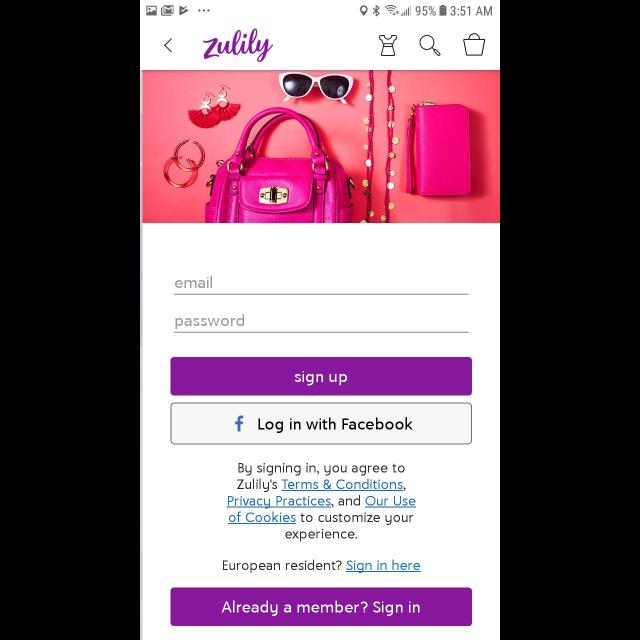icon: (463, 34, 485, 56), (420, 36, 440, 56), (235, 414, 243, 432), (164, 38, 172, 54)
image: (144, 70, 501, 224), (203, 29, 273, 63), (379, 36, 397, 56)
input: (175, 314, 470, 334), (175, 276, 470, 296)
text: (227, 462, 417, 542), (223, 559, 421, 573), (176, 314, 244, 330), (175, 276, 212, 288)
textbutton: (171, 403, 473, 445), (171, 356, 473, 396), (172, 588, 472, 626)
uppertaskbar: (140, 1, 500, 18)
